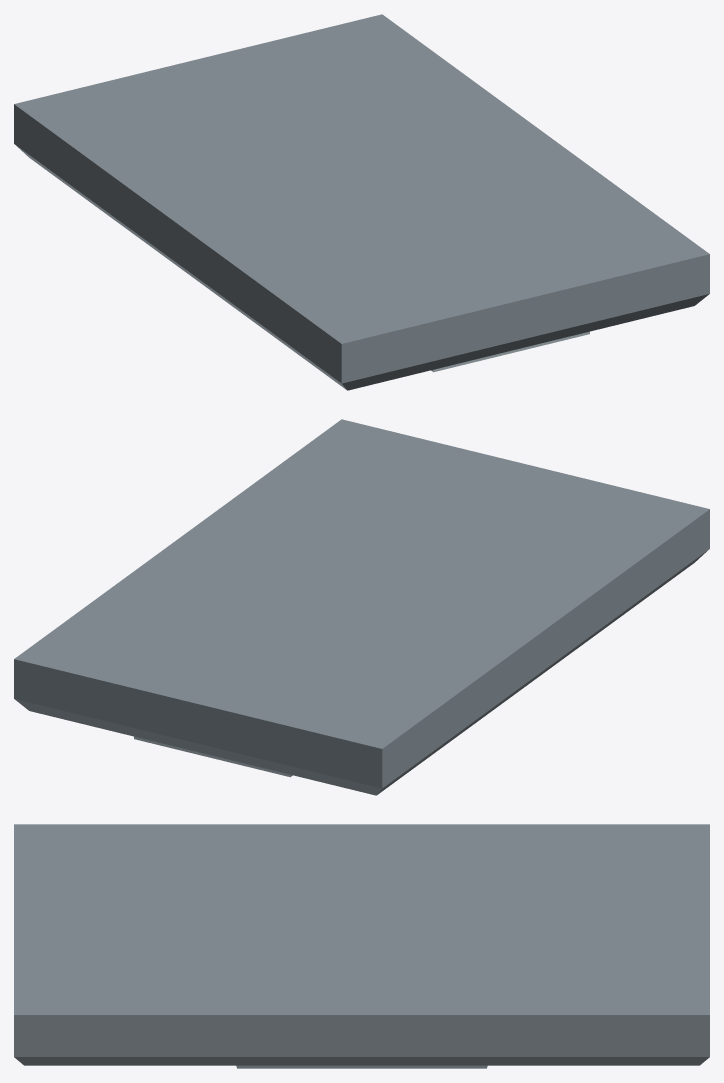
The model's file is SM_Prop_AirVent_01.fbx.
3 renders of one model, top to bottom at view 1: azimuth 30°, elevation 25°; view 2: azimuth 150°, elevation 25°; view 3: azimuth 270°, elevation 25°, orthographic. The views are drawn at different scales.
Parts seen in each view (by area): view 1: SM_Prop_AirVent_01; view 2: SM_Prop_AirVent_01; view 3: SM_Prop_AirVent_01.
Part boxes in pixels (box(x1,y1,x2,y2)): SM_Prop_AirVent_01: box(14, 14, 709, 390); SM_Prop_AirVent_01: box(14, 419, 709, 795); SM_Prop_AirVent_01: box(14, 824, 709, 1068).
Bounding box in the file's own units: 58.41 × 9.76 × 90.03.
Materials: 1 (1 with a texture image).
